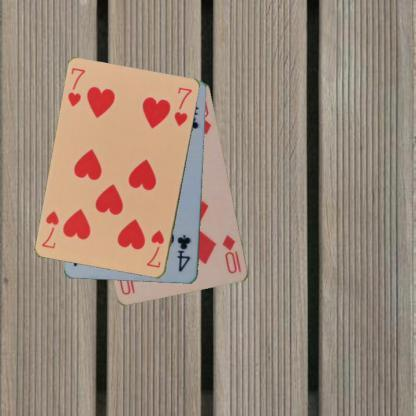10d: (220, 232, 243, 275)
4c: (174, 232, 192, 274)
7h: (66, 65, 88, 109), (144, 228, 166, 270)
